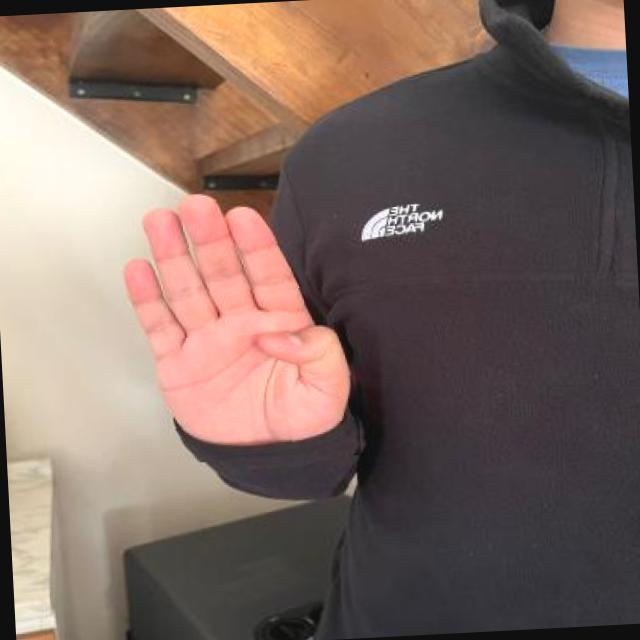B: (116, 172, 367, 467)
